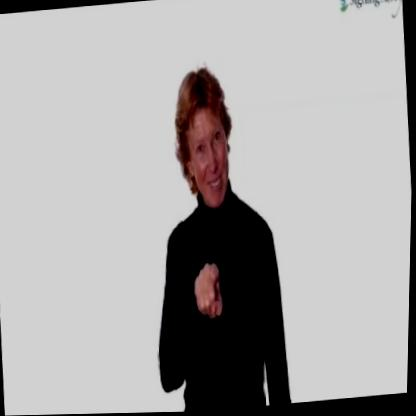NiceToMeetYou: (172, 249, 237, 336)
